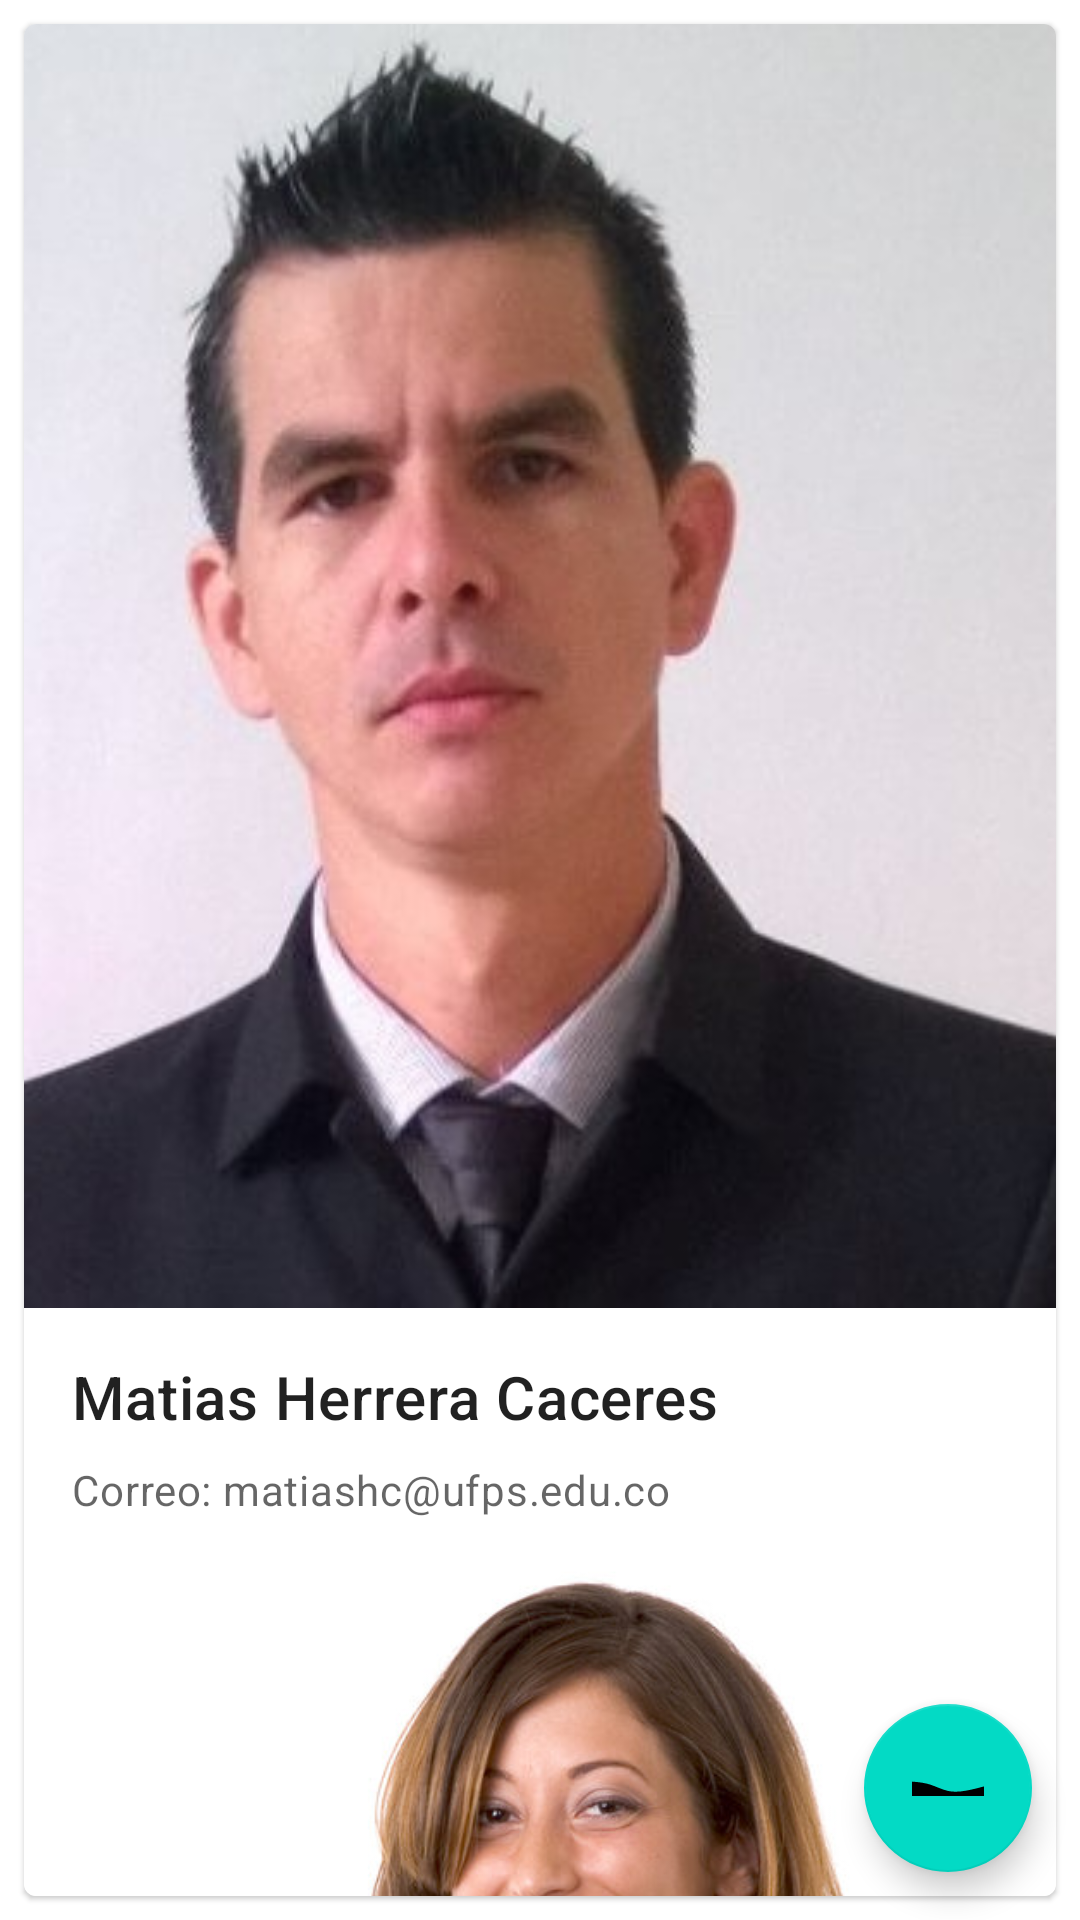

Screen size 1080x1920. Icon name, then its center in pixels as (x,y):
bottom wave: (948,1788)
